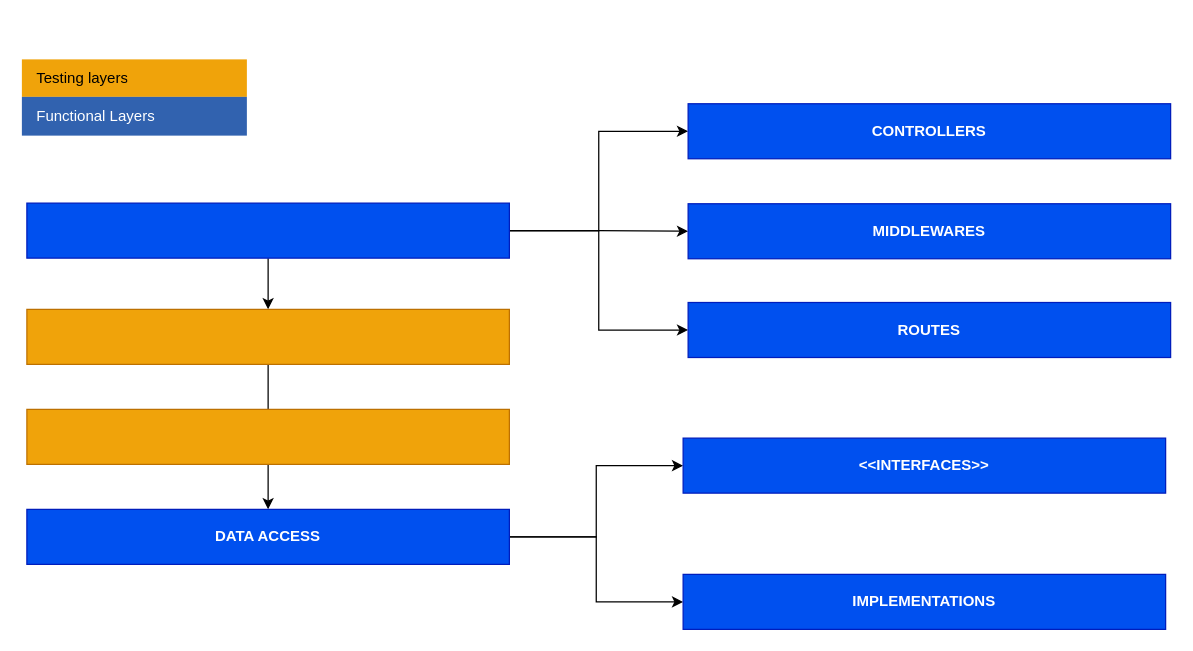
Image size: 1193x651. Some labels were removed from this diagram. Each missing label, with the centre of its shape:
DOMAIN: (x=267, y=436)
HTTP: (x=267, y=230)
SERVICES: (x=267, y=336)
